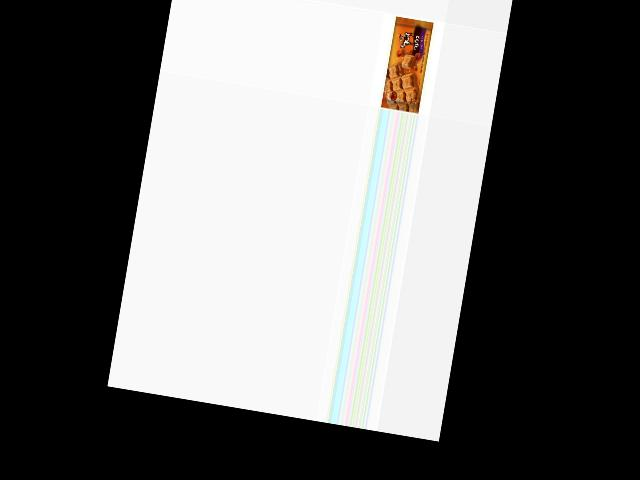chocolate: (381, 13, 436, 114)
